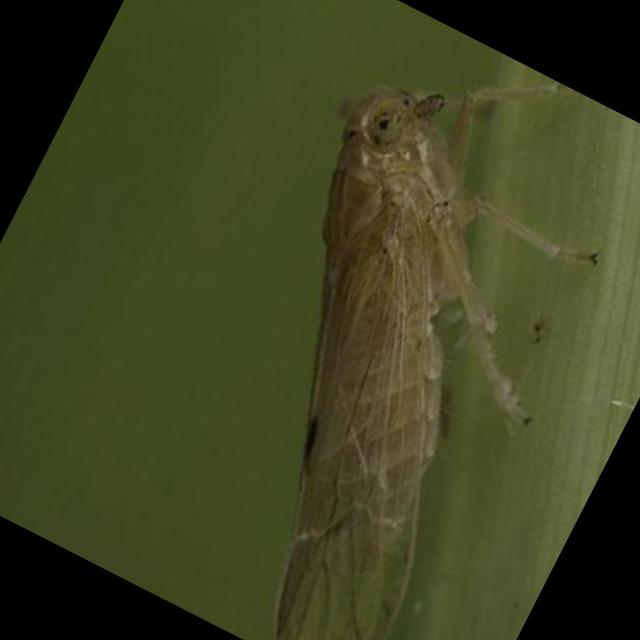brown-planthopper: (107, 52, 621, 640)
